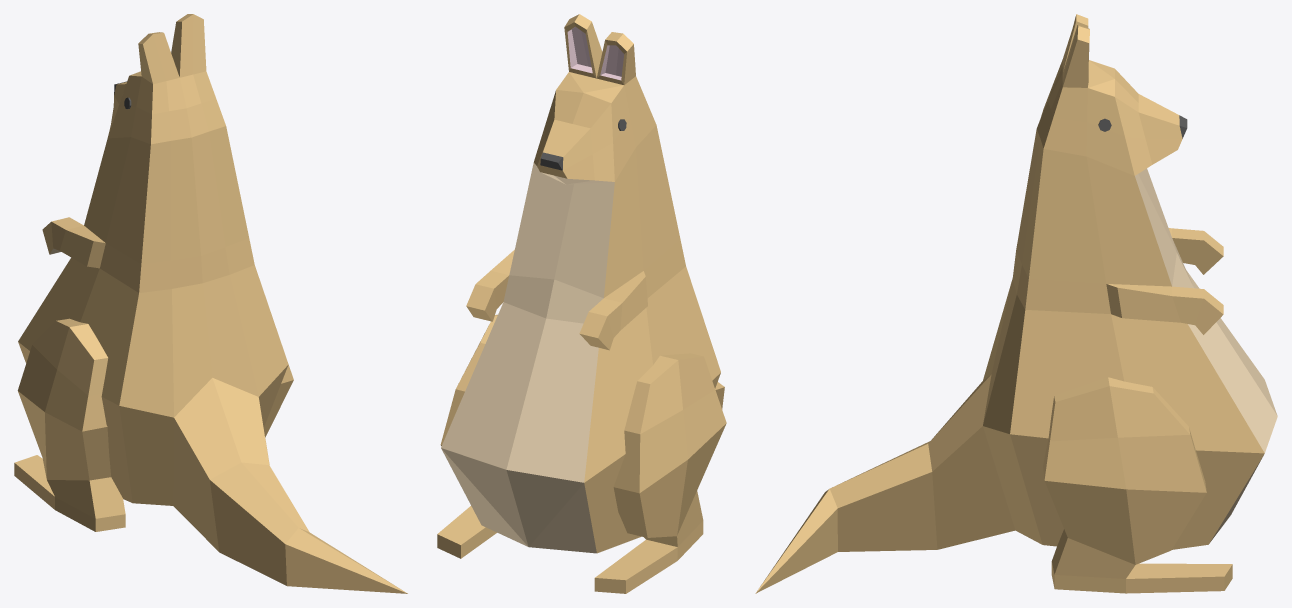
File: Kangaroo_01.gltf
3 renders of one model, left to right at view 1: azimuth 30°, elevation 25°; view 2: azimuth 150°, elevation 25°; view 3: azimuth 270°, elevation 25°, orthographic. The views are drawn at different scales.
Parts seen in each view (by area): view 1: node-0; view 2: node-0; view 3: node-0.
Part boxes in pixels (x1,y1,x2,y2): node-0: (14,14,407,593); node-0: (437,14,726,593); node-0: (755,14,1277,593).
Size of the model in its own units: 4.58 by 10.08 by 8.96.
